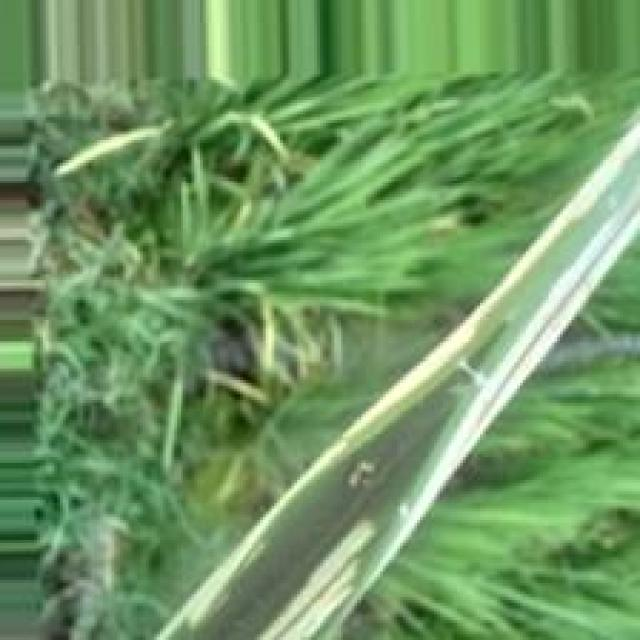Rice_Hispa: (167, 118, 640, 637), (368, 198, 637, 593), (250, 510, 387, 640)
